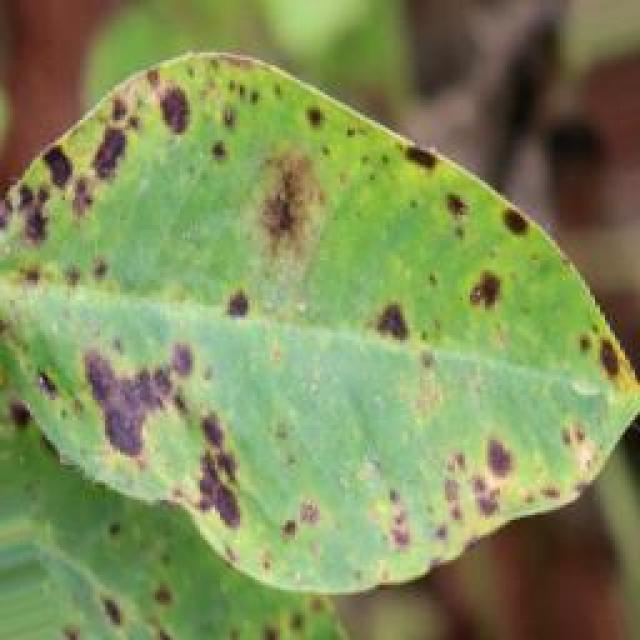Yellowish: (0, 68, 640, 586)
